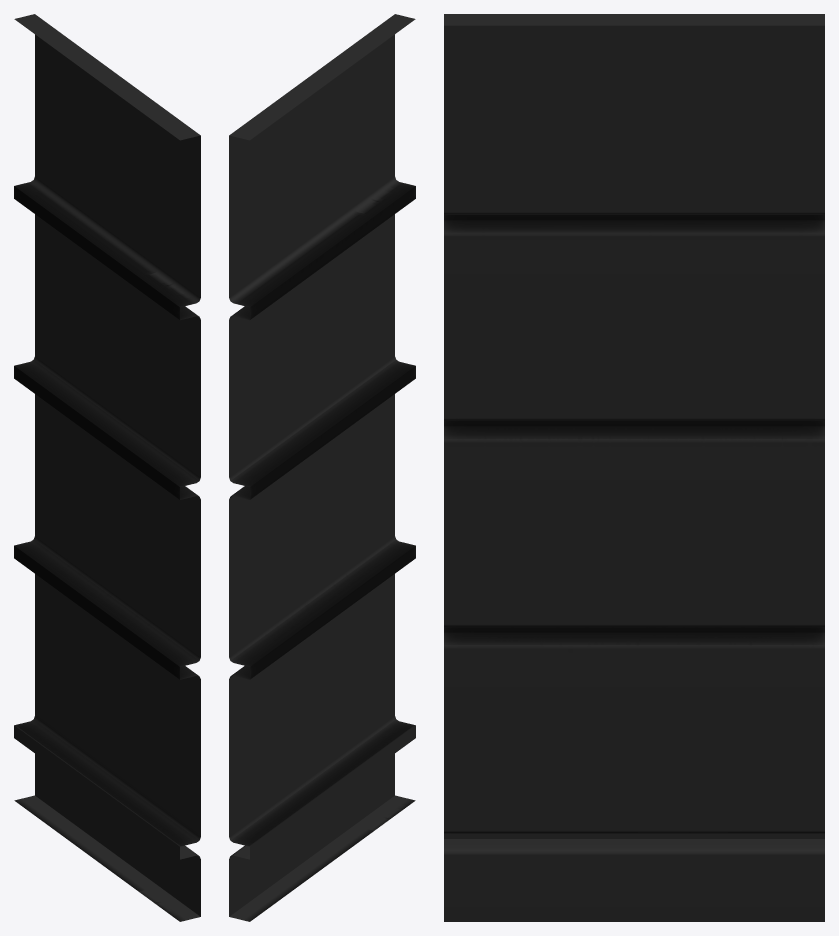
Rendered from VAL_2U_SW.fbx.
The picture shows the model from 3 angles, left to right: view 1: azimuth 30°, elevation 25°; view 2: azimuth 150°, elevation 25°; view 3: azimuth 270°, elevation 25°; orthographic projection. The views are drawn at different scales.
Parts seen in each view (by area): view 1: VAL_2U_SW; view 2: VAL_2U_SW; view 3: VAL_2U_SW.
Part boxes in pixels (left/top/right/bottom): VAL_2U_SW: left=14, top=14, right=200, bottom=921; VAL_2U_SW: left=229, top=14, right=415, bottom=921; VAL_2U_SW: left=444, top=14, right=824, bottom=921.
Size of the model in its own units: 0.125 by 4.5 by 1.73.
